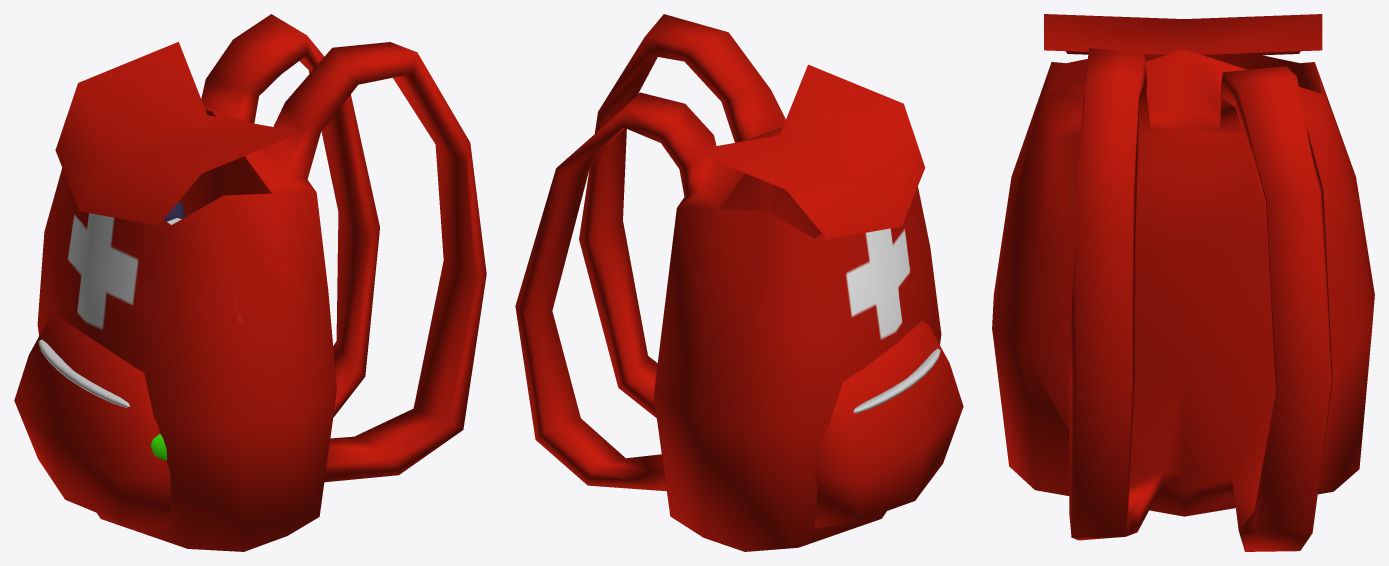
File: maleta.glb
3 views of the same model, side by side, from view 1: azimuth 30°, elevation 25°; view 2: azimuth 150°, elevation 25°; view 3: azimuth 270°, elevation 25° (orthographic). The views are drawn at different scales.
Parts seen in each view (by area): view 1: maletin, maletin.001, bolsillo, cierre; view 2: maletin, maletin.001, bolsillo, cierre; view 3: maletin, maletin.001.
Part boxes in pixels (x1,y1,x2,y2): maletin: (37, 14, 486, 551); maletin.001: (55, 42, 301, 225); bolsillo: (14, 312, 170, 529); cierre: (38, 339, 129, 407); maletin: (515, 14, 941, 551); maletin.001: (691, 64, 925, 239); bolsillo: (814, 320, 963, 528); cierre: (853, 348, 940, 413); maletin: (992, 48, 1374, 551); maletin.001: (1044, 14, 1322, 55).
Bounding box in the file's own units: 2.13 × 2.38 × 1.63.
Materials: 19 (3 with a texture image).
